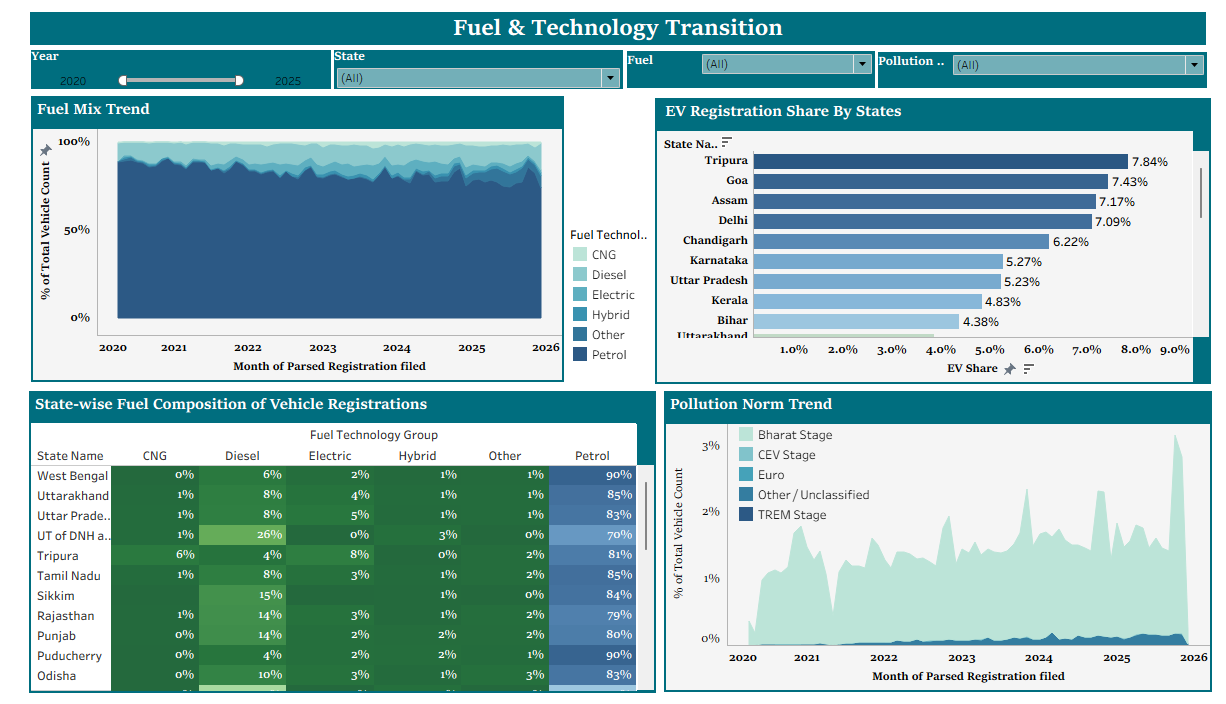

The dashboard page shown, as its layout file describes it:
{"tool":"tableau","page":{"name":"Dashboard 4","canvas":[1200,1000],"ordinal":3},"visuals":[{"type":"title","box":[8,8,1184,41]},{"type":"filter","title":"Fuel Mix Trend","param":"[federated.126gv5v0tedxz11cikqk708k748i].[none:registrationYear:qk]","box":[13,50,300,39]},{"type":"filter","title":"Fuel Mix Trend","param":"[federated.126gv5v0tedxz11cikqk708k748i].[none:stateName:nk]","box":[316,50,289,39]},{"type":"filter","title":"Fuel Mix Trend","param":"[federated.126gv5v0tedxz11cikqk708k748i].[none:Calculation_0380760705495047:nk]","box":[609,51,248,37]},{"type":"filter","title":"Pollution Norm Trend","param":"[federated.126gv5v0tedxz11cikqk708k748i].[none:Calculation_1445362986733575:nk]","box":[860,52,329,36]},{"type":"worksheet","title":"Fuel Mix Trend","mark":"Area","cols":["Calculation_0380760707530761"],"box":[13,96,533,286]},{"type":"worksheet","title":"EV Share by State","mark":"Bar","rows":["stateName"],"cols":["Calculation_1335961509658625"],"box":[637,98,556,286]},{"type":"legend","title":"Fuel Mix Trend","param":"[federated.126gv5v0tedxz11cikqk708k748i].[none:Calculation_0380760705495047:nk]","box":[552,226,77,153]},{"type":"worksheet","title":"Pollution Norm Trend","mark":"Area","rows":["vehicleCount"],"cols":["Calculation_0380760707530761"],"box":[646,389,548,300]},{"type":"worksheet","title":"State Fuel Matrix","mark":"Square","rows":["stateName"],"cols":["Calculation_0380760705495047"],"box":[11,391,627,302]},{"type":"legend","title":"Pollution Norm Trend","param":"[federated.126gv5v0tedxz11cikqk708k748i].[none:Calculation_1445362986733575:nk]","box":[718,424,140,120]}]}

Visuals, with their boxes on the page's 1200x1000 design canvas (x1, y1, x2, y2). These are canvas units, not pixel positions in the 1226x704 screenshot, which may show the page scaled, cropped or inside an application window:
title: 8 8 1192 49
"Fuel Mix Trend" filter: 13 50 313 89
"Fuel Mix Trend" filter: 316 50 605 89
"Fuel Mix Trend" filter: 609 51 857 88
"Pollution Norm Trend" filter: 860 52 1189 88
"Fuel Mix Trend" worksheet (Area marks): 13 96 546 382
"EV Share by State" worksheet (Bar marks): 637 98 1193 384
"Fuel Mix Trend" legend: 552 226 629 379
"Pollution Norm Trend" worksheet (Area marks): 646 389 1194 689
"State Fuel Matrix" worksheet (Square marks): 11 391 638 693
"Pollution Norm Trend" legend: 718 424 858 544
